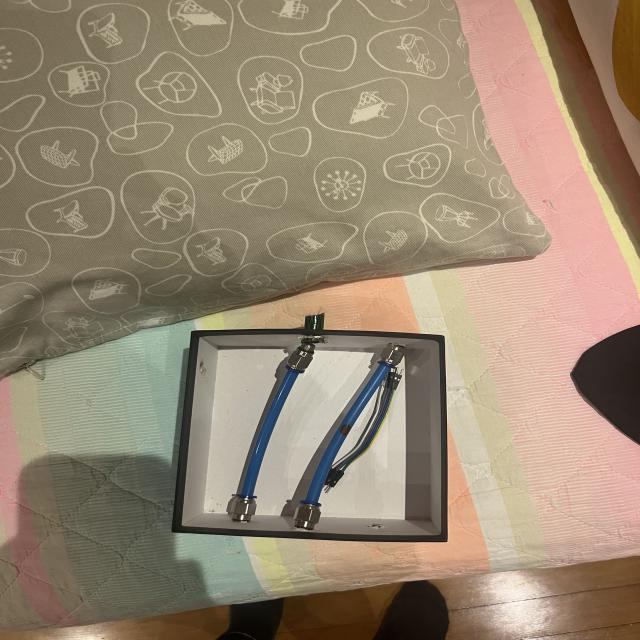hose_damage: (339, 424, 352, 436)
